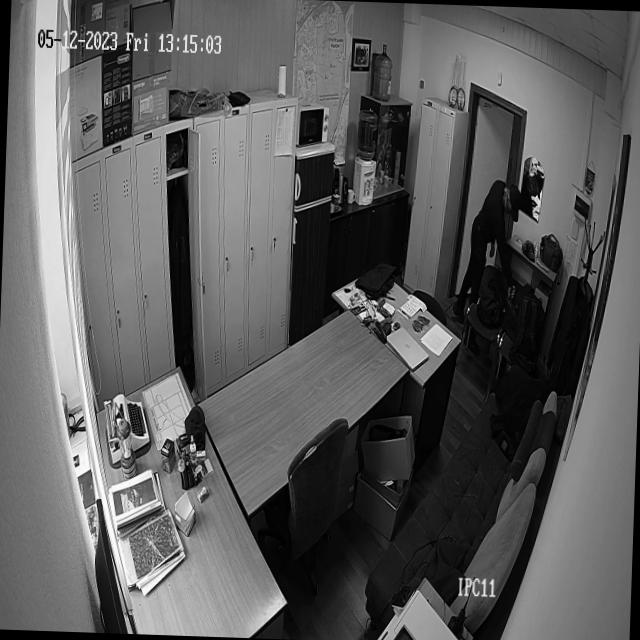gun: (500, 280, 518, 324)
person with a gun: (452, 180, 521, 322)
